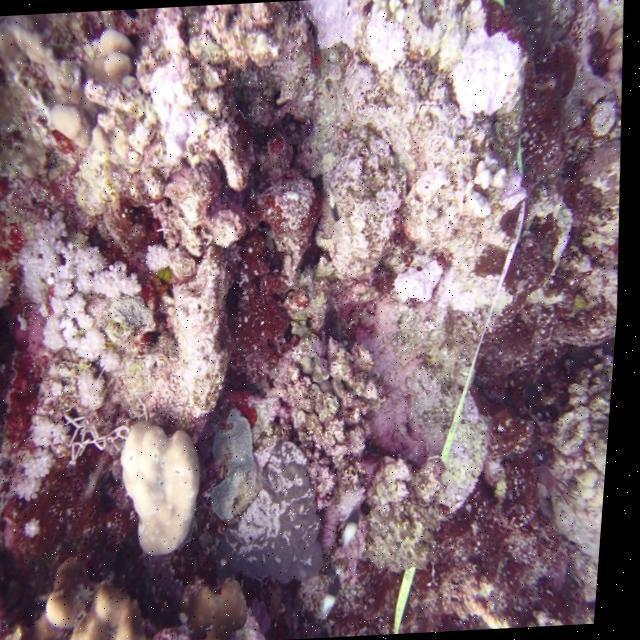Bleached Coral: (8, 212, 154, 426), (293, 0, 434, 115), (116, 34, 229, 169), (428, 8, 543, 138)
